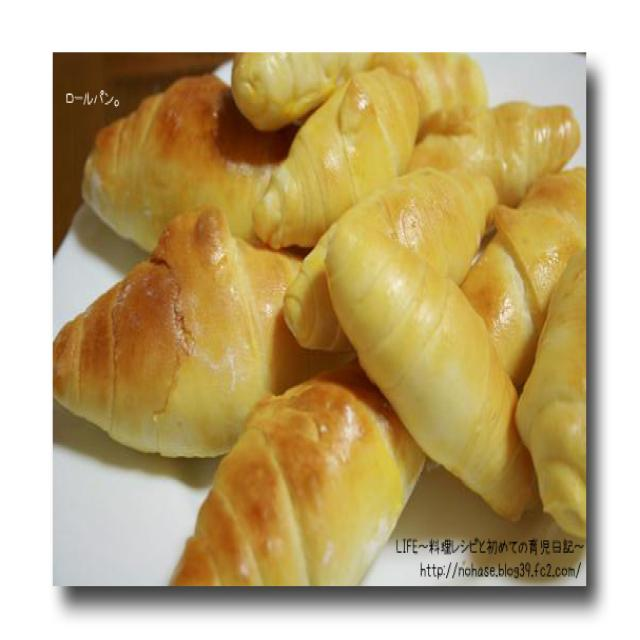面包点心: (63, 114, 570, 520)
